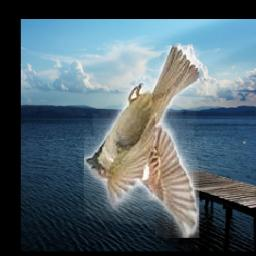Sparrow: (84, 45, 199, 238)
